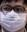with_mask: (1, 2, 27, 32)
